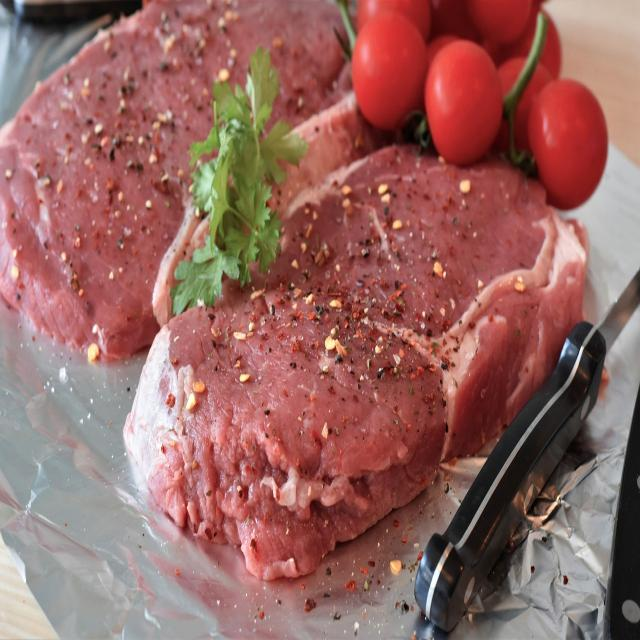tomato: (527, 79, 611, 214), (348, 11, 426, 131), (433, 41, 501, 162)
